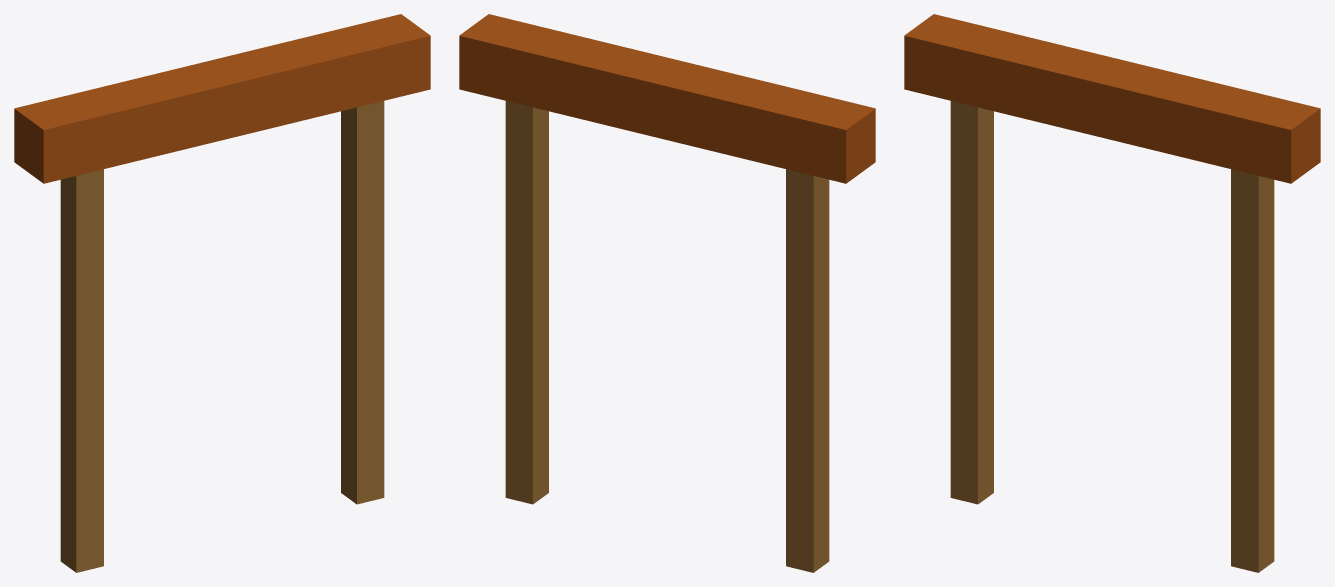
The model's file is арка.fbx.
3 views of the same model, side by side, from view 1: azimuth 30°, elevation 25°; view 2: azimuth 150°, elevation 25°; view 3: azimuth 330°, elevation 25° (orthographic).
Parts seen in each view (by area): view 1: Cube.001; view 2: Cube.001; view 3: Cube.001.
Part boxes in pixels (bbox=[...]): Cube.001: bbox=[14, 14, 430, 572]; Cube.001: bbox=[459, 14, 875, 572]; Cube.001: bbox=[904, 14, 1320, 572].
Bounding box in the file's own units: 2 × 2.26 × 0.2653.
